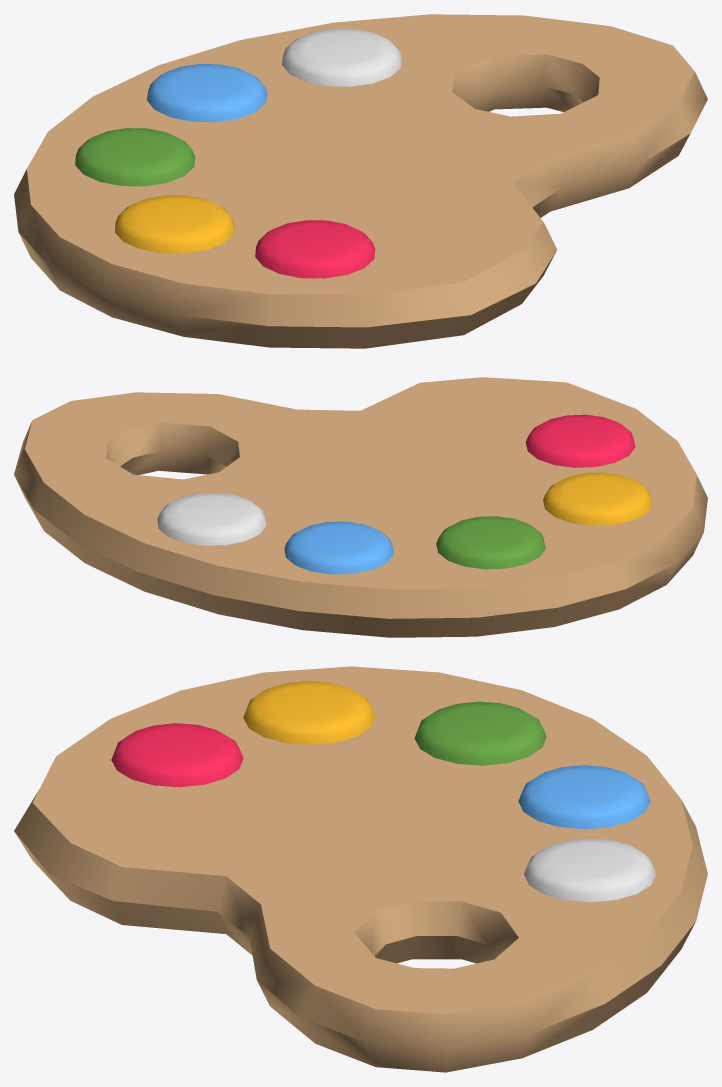
The model's file is palette.gltf.glb.
The picture shows the model from 3 angles, top to bottom: view 1: azimuth 30°, elevation 25°; view 2: azimuth 150°, elevation 25°; view 3: azimuth 270°, elevation 25°; orthographic projection. The views are drawn at different scales.
Parts seen in each view (by area): view 1: palette; view 2: palette; view 3: palette.
Boxes of the visible parts, bbox=[...] form: palette: bbox=[14, 14, 707, 348]; palette: bbox=[14, 377, 707, 637]; palette: bbox=[14, 666, 707, 1072].
Size of the model in its own units: 0.6613 by 0.0619 by 0.54.
